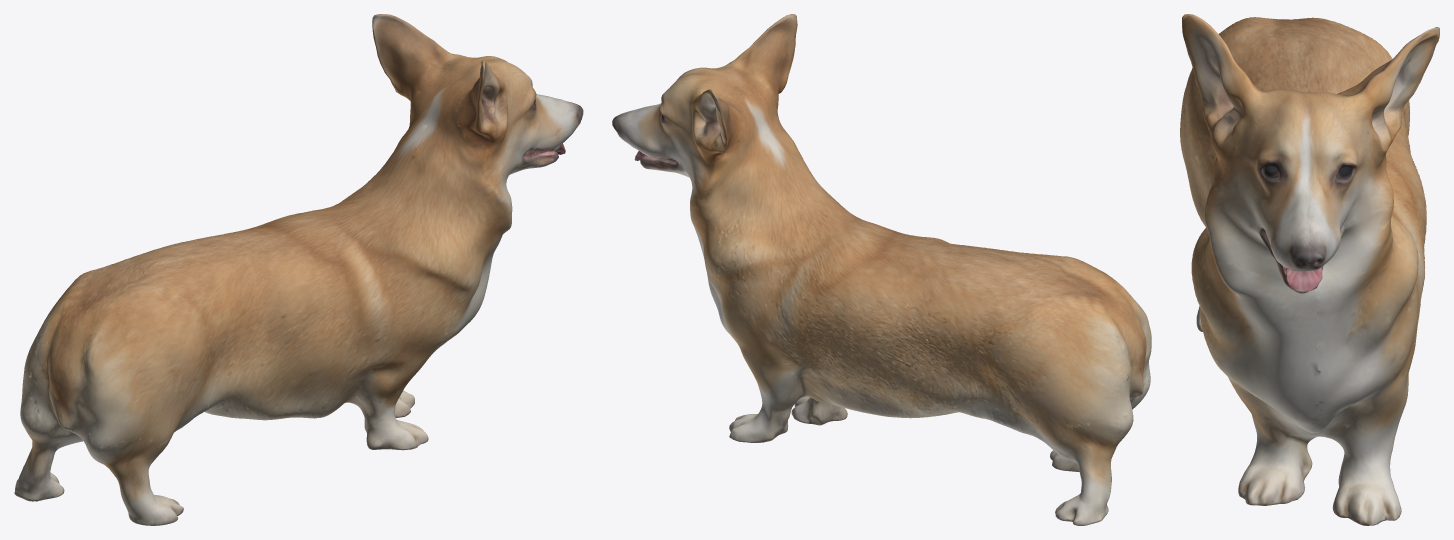
Rendered from corgi.glb.
3 renders of one model, left to right at view 1: azimuth 30°, elevation 25°; view 2: azimuth 150°, elevation 25°; view 3: azimuth 270°, elevation 25°, orthographic. The views are drawn at different scales.
Parts seen in each view (by area): view 1: dog_mesh_22; view 2: dog_mesh_22; view 3: dog_mesh_22.
Boxes of the visible parts, <box> form: dog_mesh_22: <box>14,14,583,525</box>; dog_mesh_22: <box>612,14,1151,525</box>; dog_mesh_22: <box>1180,14,1439,525</box>.
Bounding box in the file's own units: 0.8113 × 0.5456 × 0.2493.
Materials: 1 (1 with a texture image).
